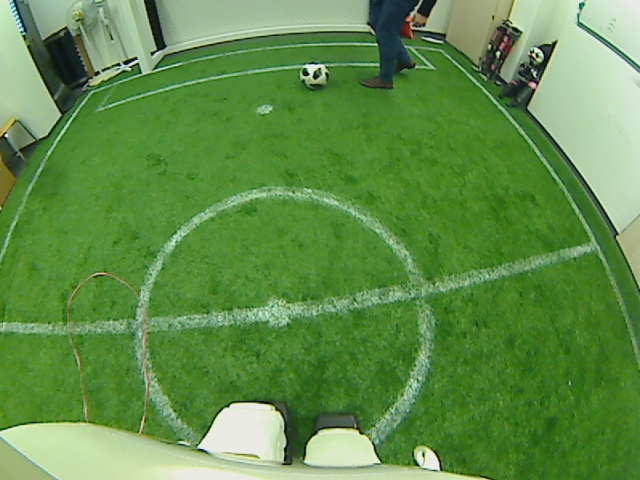ball: (299, 61, 330, 90)
